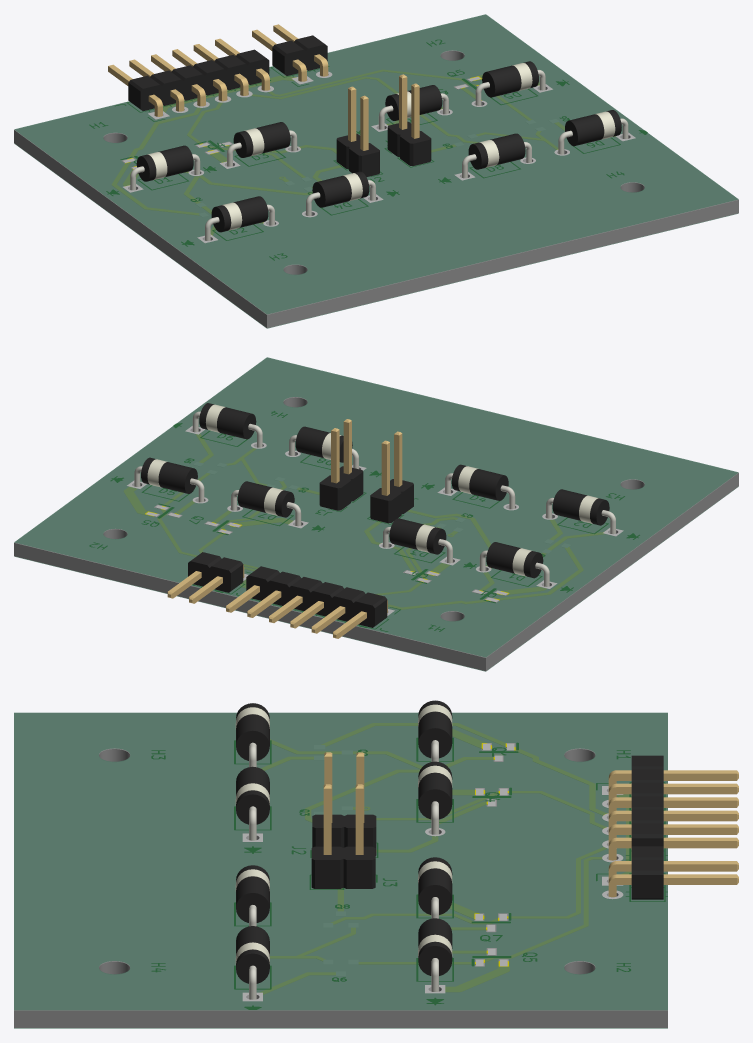
Rendered from line-follower-h-bridge-v1.glb.
The picture shows the model from 3 angles, top to bottom: view 1: azimuth 30°, elevation 25°; view 2: azimuth 150°, elevation 25°; view 3: azimuth 270°, elevation 25°; orthographic projection. The views are drawn at different scales.
Visible parts, largest first — view 1: =>[0:1:1:11], =>[0:1:1:10], J4, =>[0:1:1:6], =>[0:1:1:9], J1, J3, J2, =>[0:1:1:7], D6, D5, D1 (+5 smaller); view 2: =>[0:1:1:10], =>[0:1:1:11], J4, =>[0:1:1:6], =>[0:1:1:9], J3, J2, J1, =>[0:1:1:7], D5, D1, D4 (+5 smaller); view 3: =>[0:1:1:10], =>[0:1:1:11], J4, =>[0:1:1:6], J1, J3, =>[0:1:1:9], J2, =>[0:1:1:7], D5, D3, D6 (+5 smaller).
Boxes of the visible parts, x1,y1,x2,y2 form: =>[0:1:1:11]: [14, 15, 738, 328]; =>[0:1:1:10]: [14, 14, 738, 328]; J4: [108, 38, 269, 116]; =>[0:1:1:6]: [112, 70, 564, 235]; =>[0:1:1:9]: [89, 39, 647, 260]; J1: [252, 24, 328, 81]; J3: [387, 74, 431, 165]; J2: [336, 86, 379, 177]; =>[0:1:1:7]: [122, 71, 635, 243]; D6: [558, 110, 628, 154]; D5: [475, 61, 545, 105]; D1: [130, 145, 200, 190]; =>[0:1:1:10]: [14, 357, 738, 671]; =>[0:1:1:11]: [14, 358, 738, 671]; J4: [226, 566, 387, 638]; =>[0:1:1:6]: [124, 434, 603, 609]; =>[0:1:1:9]: [89, 411, 639, 631]; J3: [319, 419, 363, 510]; J2: [370, 431, 413, 523]; J1: [167, 552, 244, 603]; =>[0:1:1:7]: [127, 426, 623, 615]; D5: [134, 457, 204, 502]; D1: [479, 542, 549, 586]; D4: [445, 464, 515, 509]; =>[0:1:1:10]: [14, 712, 667, 1028]; =>[0:1:1:11]: [14, 713, 667, 1027]; J4: [608, 755, 738, 860]; =>[0:1:1:6]: [262, 723, 630, 994]; J1: [608, 846, 738, 899]; J3: [311, 784, 375, 888]; =>[0:1:1:9]: [151, 737, 667, 1009]; J2: [312, 752, 376, 855]; =>[0:1:1:7]: [242, 743, 623, 1001]; D5: [418, 918, 452, 991]; D3: [418, 761, 452, 834]; D6: [235, 926, 269, 999].
Size of the model in its own units: 0.056 by 0.0115 by 0.0577.
